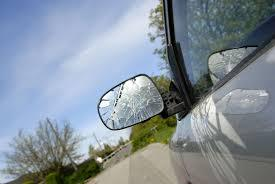Sidemirror-Damage: (90, 73, 200, 134)
